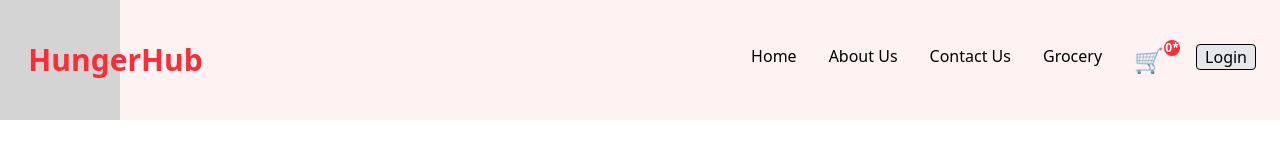
Test case: should login button changed to username after click insider Header component
Click the button "Login": point(1226, 57) left=1196, top=44, right=1256, bottom=70
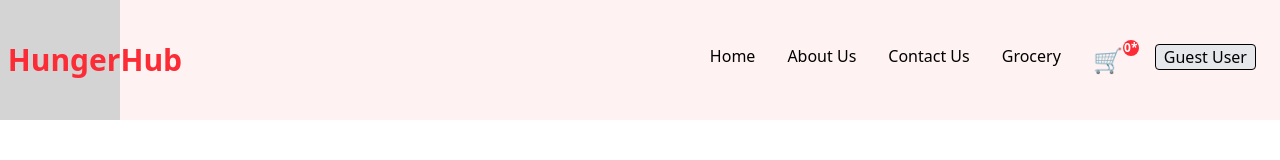
expect the button no longer shows "Login": met, box left=1155, top=44, right=1256, bottom=70
